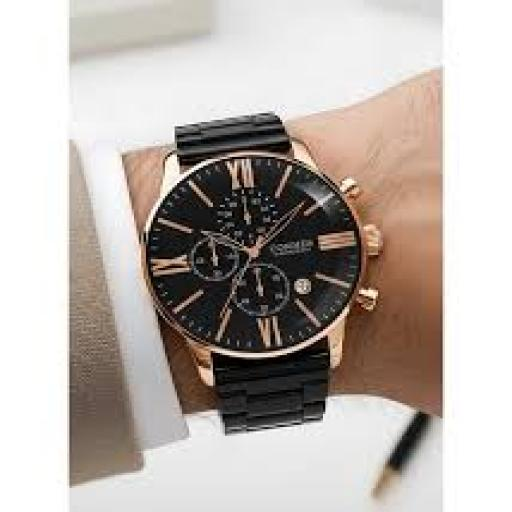KolSaati: (107, 97, 399, 466)
